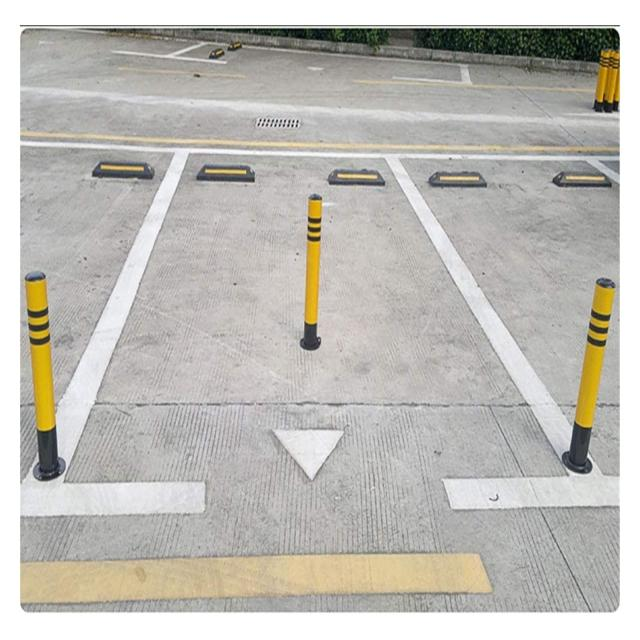libre: (46, 138, 582, 484), (395, 146, 621, 490), (15, 133, 183, 487)
